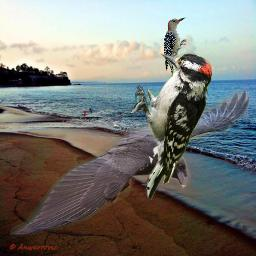Crow: (10, 89, 250, 239)
Woodpecker: (131, 50, 212, 200), (164, 16, 187, 81)
